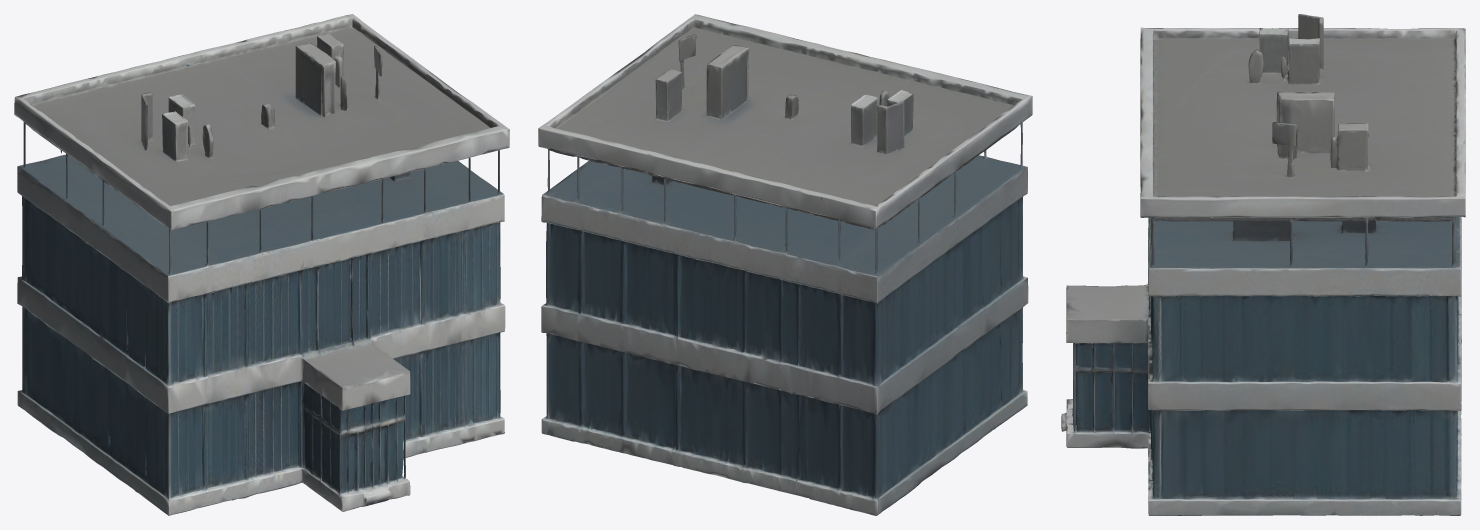
Rendered from aero_terminal.glb.
The picture shows the model from 3 angles, left to right: view 1: azimuth 30°, elevation 25°; view 2: azimuth 150°, elevation 25°; view 3: azimuth 270°, elevation 25°; orthographic projection. The views are drawn at different scales.
Parts seen in each view (by area): view 1: tripo_node_c323468e-0933-4703-ba42-aecc395cf653; view 2: tripo_node_c323468e-0933-4703-ba42-aecc395cf653; view 3: tripo_node_c323468e-0933-4703-ba42-aecc395cf653.
Boxes of the visible parts, bbox=[...] form: tripo_node_c323468e-0933-4703-ba42-aecc395cf653: bbox=[14, 14, 509, 515]; tripo_node_c323468e-0933-4703-ba42-aecc395cf653: bbox=[538, 14, 1032, 515]; tripo_node_c323468e-0933-4703-ba42-aecc395cf653: bbox=[1061, 14, 1465, 515].
Bounding box in the file's own units: 1 × 1 × 1.
1 material, 1 textured.
